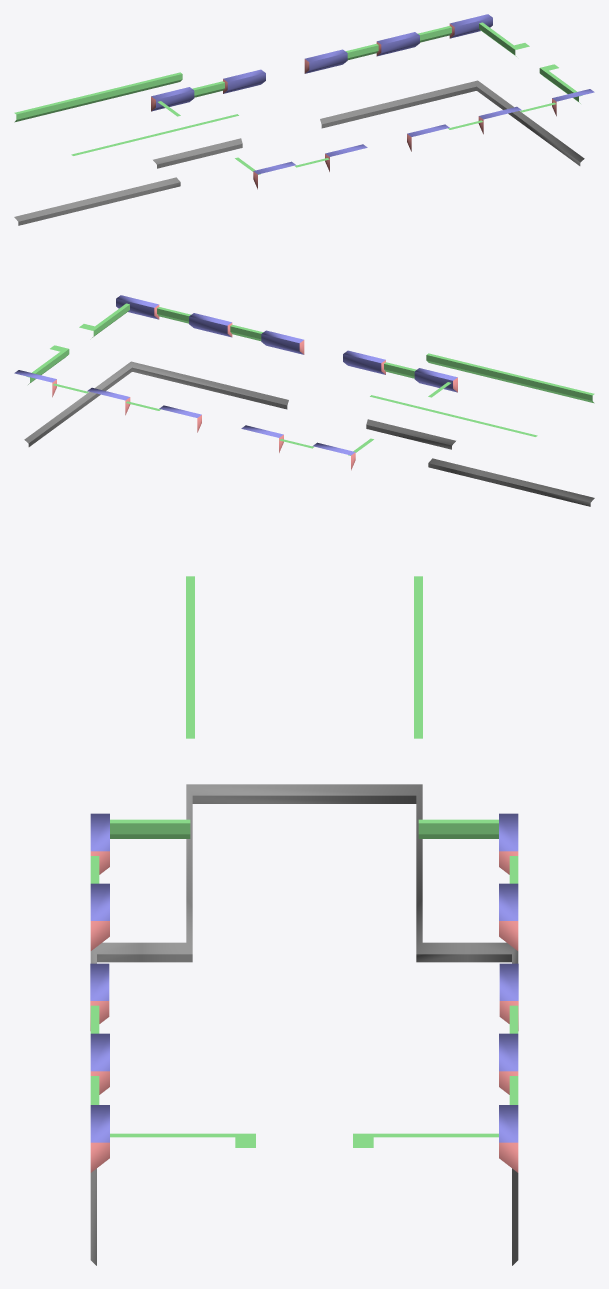
The model's file is sylentemple_deco08.gltf.
3 renders of one model, top to bottom at view 1: azimuth 30°, elevation 25°; view 2: azimuth 150°, elevation 25°; view 3: azimuth 270°, elevation 25°, orthographic. The views are drawn at different scales.
Parts seen in each view (by area): view 1: sylentemple_deco08; view 2: sylentemple_deco08; view 3: sylentemple_deco08.
Part boxes in pixels (left/top/right/bottom): sylentemple_deco08: left=14, top=14, right=594, bottom=225; sylentemple_deco08: left=14, top=295, right=594, bottom=506; sylentemple_deco08: left=90, top=576, right=518, bottom=1265.
Size of the model in its own units: 40.52 by 8.73 by 15.07.
